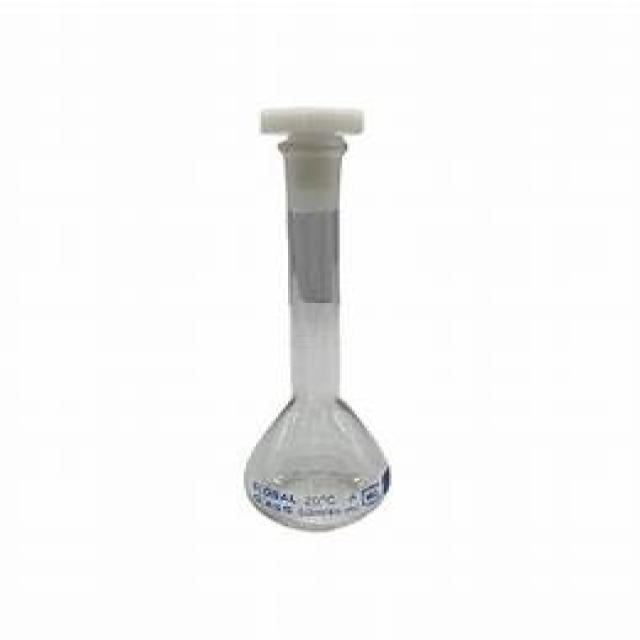Volumetric flask: (231, 90, 398, 527)
